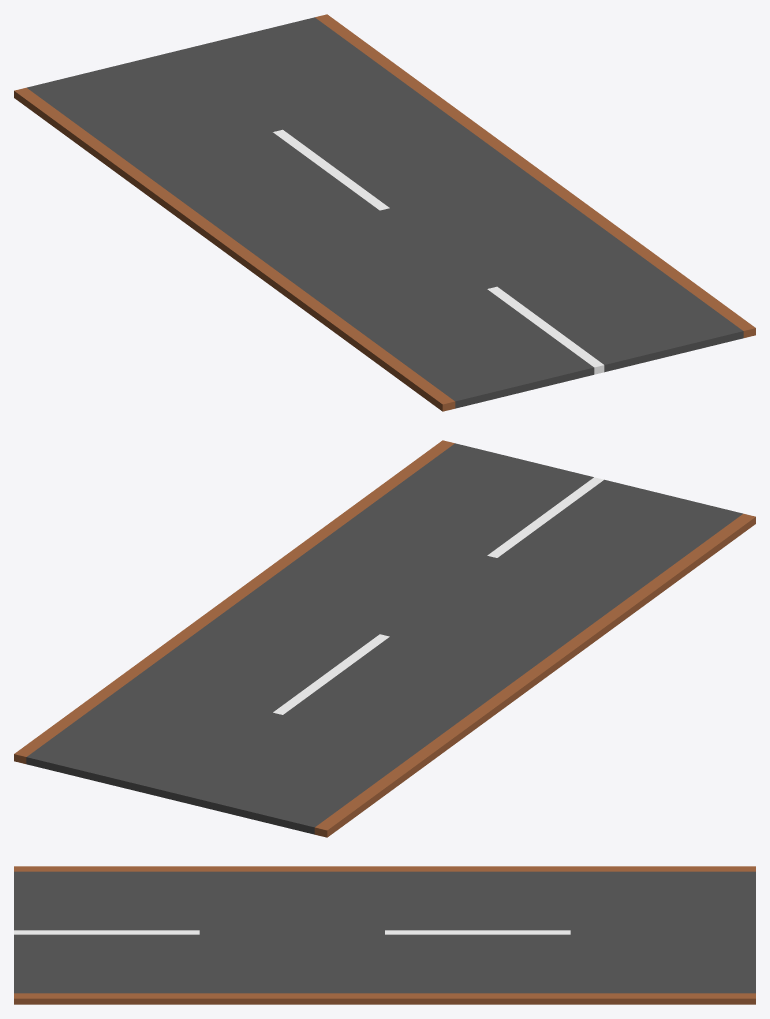
Rendered from Road3D.fbx.
The picture shows the model from 3 angles, top to bottom: view 1: azimuth 30°, elevation 25°; view 2: azimuth 150°, elevation 25°; view 3: azimuth 270°, elevation 25°; orthographic projection. The views are drawn at different scales.
Visible parts, largest first — view 1: Plane; view 2: Plane; view 3: Plane.
Boxes of the visible parts, bbox=[...] form: Plane: bbox=[14, 14, 755, 411]; Plane: bbox=[14, 440, 755, 837]; Plane: bbox=[14, 866, 755, 1004].
Bounding box in the file's own units: 1000 × 22.04 × 2370.
